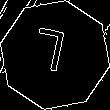L_S: (34, 27, 76, 83)
